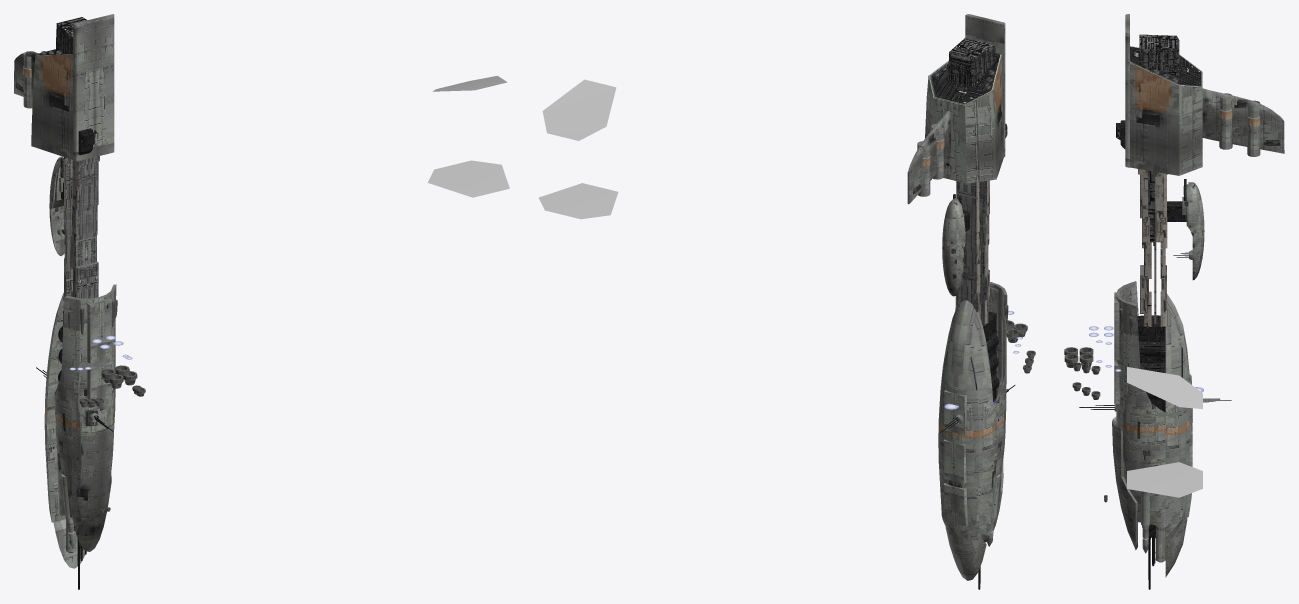
Rendered from RVRE_Vigil.obj.
3 views of the same model, side by side, from view 1: azimuth 30°, elevation 25°; view 2: azimuth 150°, elevation 25°; view 3: azimuth 270°, elevation 25° (orthographic). The views are drawn at different scales.
Visible parts, largest first — view 1: FOCAlliance, AMlights01, Propulsores; view 2: FOCAlliance, AMlights01; view 3: FOCAlliance, AMlights01, Propulsores.
Part boxes in pixels (x1=…): FOCAlliance: x1=14, y1=14, x2=117, y2=589; AMlights01: x1=427, y1=75, x2=509, y2=197; Propulsores: x1=79, y1=365, x2=145, y2=513; FOCAlliance: x1=907, y1=14, x2=1015, y2=589; AMlights01: x1=538, y1=79, x2=618, y2=219; FOCAlliance: x1=1079, y1=14, x2=1284, y2=589; AMlights01: x1=1127, y1=367, x2=1202, y2=497; Propulsores: x1=1064, y1=347, x2=1107, y2=502.
Size of what is drawn, in the model's own units: 473 by 554 by 195.
